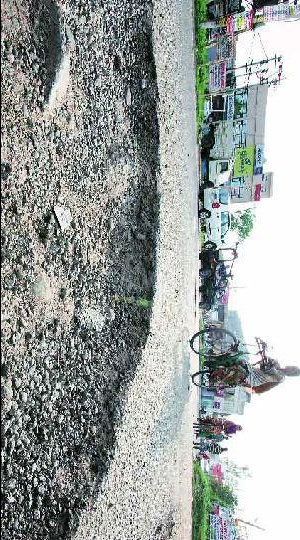pothole: (1, 0, 163, 540)
